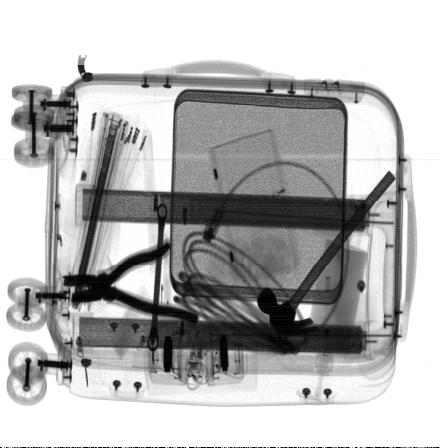Hammer: (256, 166, 396, 336)
Pliers: (62, 237, 203, 325)
Wrench: (147, 202, 167, 351)
